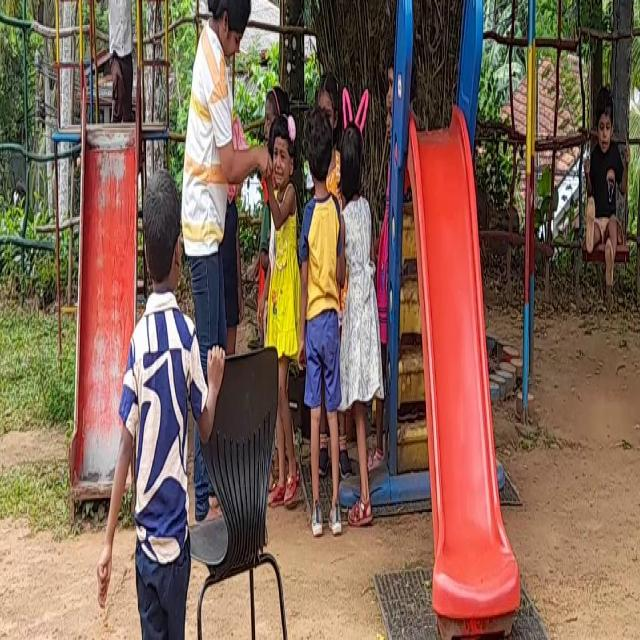adult: (182, 0, 252, 331)
child: (114, 171, 198, 640), (337, 100, 385, 538), (309, 121, 341, 536), (264, 126, 300, 491), (584, 69, 628, 309), (96, 0, 139, 144)
